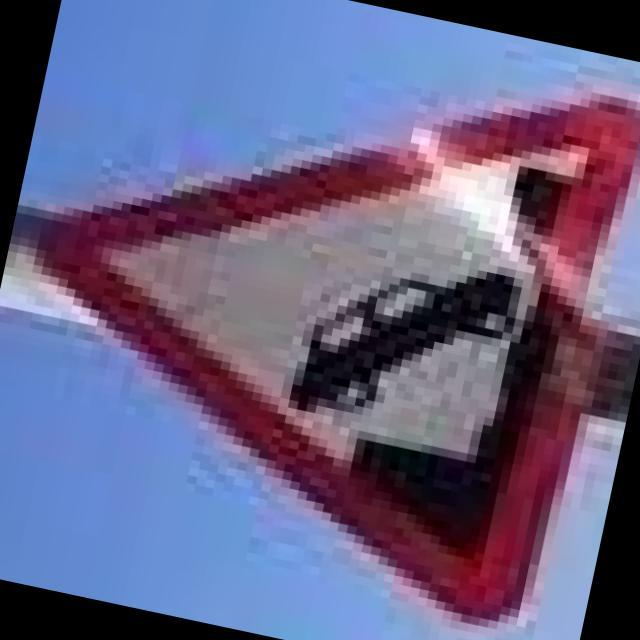obstructed_road_sign: (41, 94, 640, 626)
